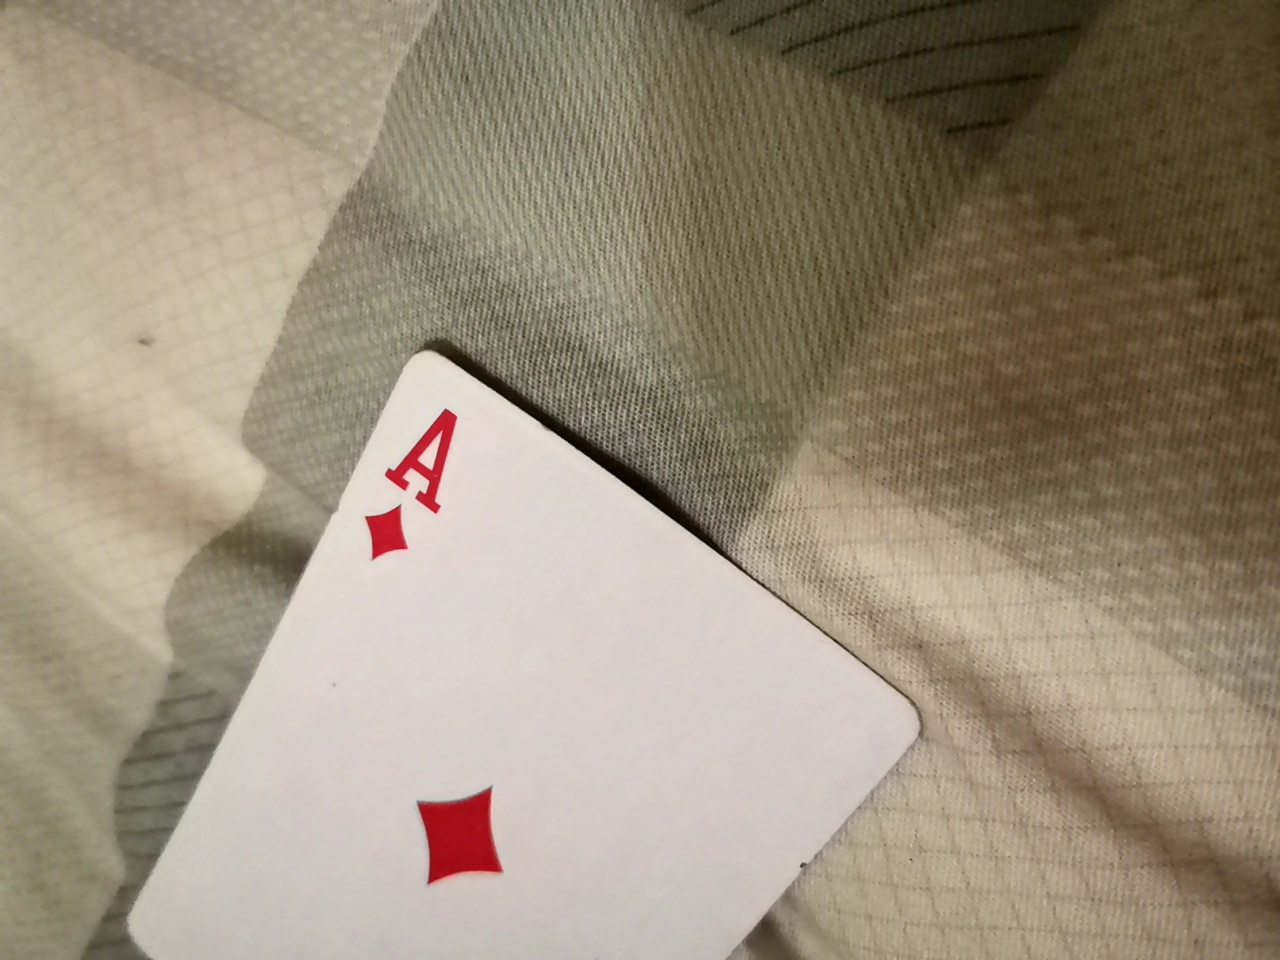fk a: (68, 361, 924, 956)
